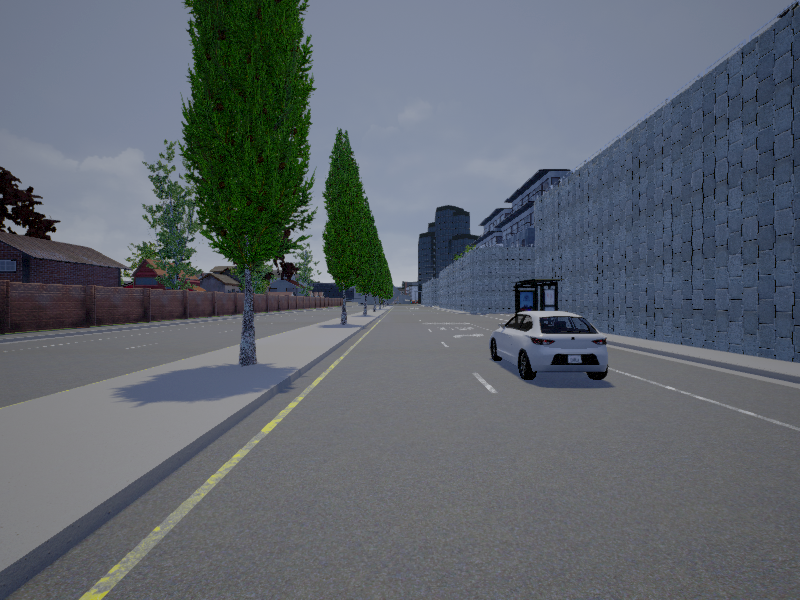Benign: (491, 309, 608, 382)
